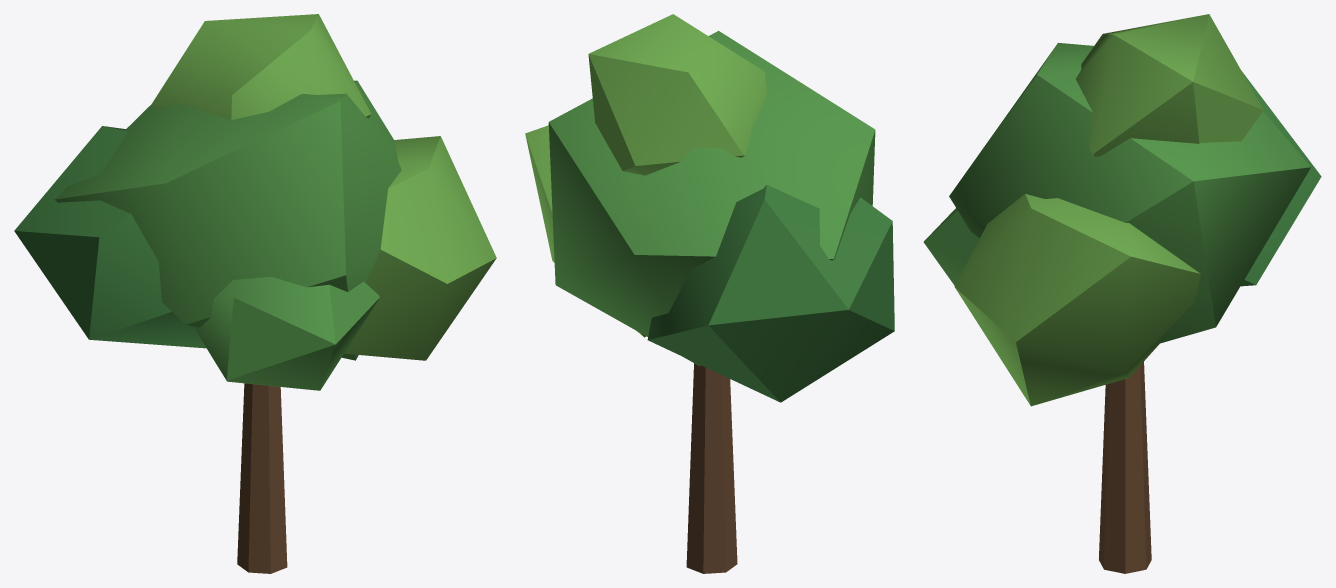
The model's file is tree_round.glb.
3 views of the same model, side by side, from view 1: azimuth 30°, elevation 25°; view 2: azimuth 150°, elevation 25°; view 3: azimuth 270°, elevation 25° (orthographic). The views are drawn at different scales.
Visible parts, largest first — view 1: PROP_tree_round; view 2: PROP_tree_round; view 3: PROP_tree_round.
Part boxes in pixels (left/top/right/bottom): PROP_tree_round: left=14, top=14, right=496, bottom=573; PROP_tree_round: left=525, top=14, right=894, bottom=573; PROP_tree_round: left=923, top=14, right=1321, bottom=573.
Bounding box in the file's own units: 3.98 × 5.36 × 3.52.
